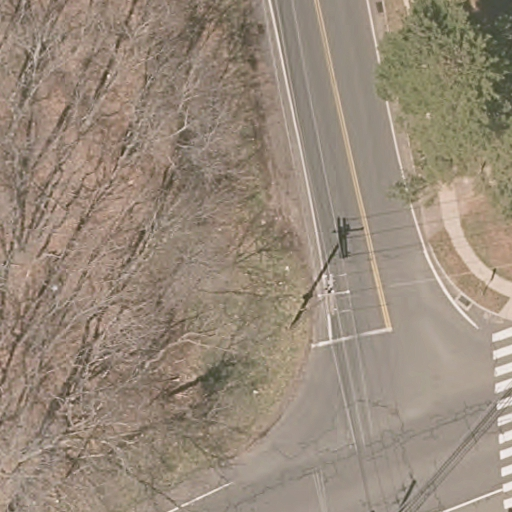DT: (316, 270, 351, 316)
